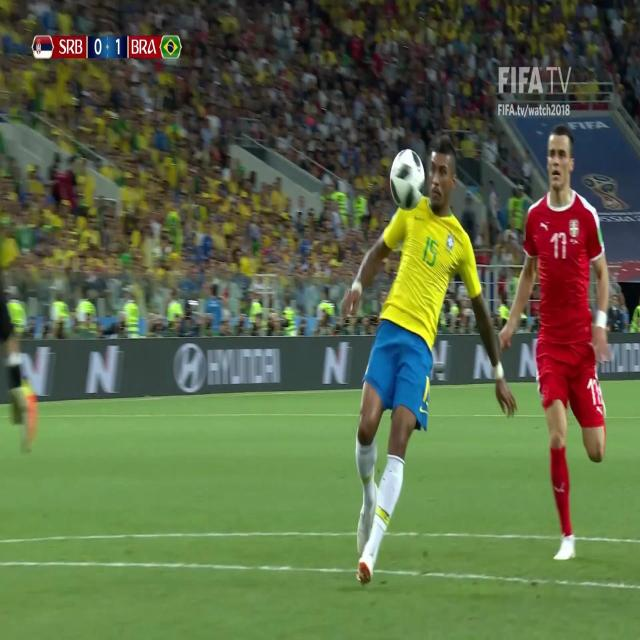ball: (389, 149, 429, 216)
player: (344, 142, 509, 582), (491, 121, 622, 570)
